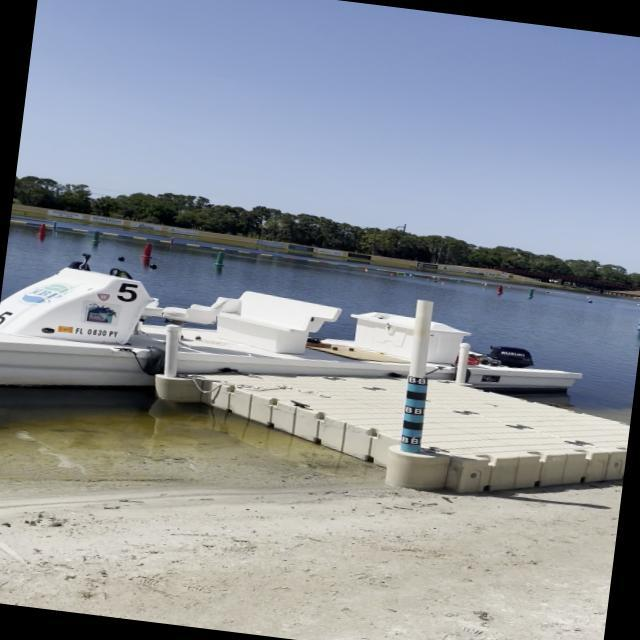buoy: (148, 262, 158, 270), (116, 255, 126, 262), (586, 299, 593, 304)
